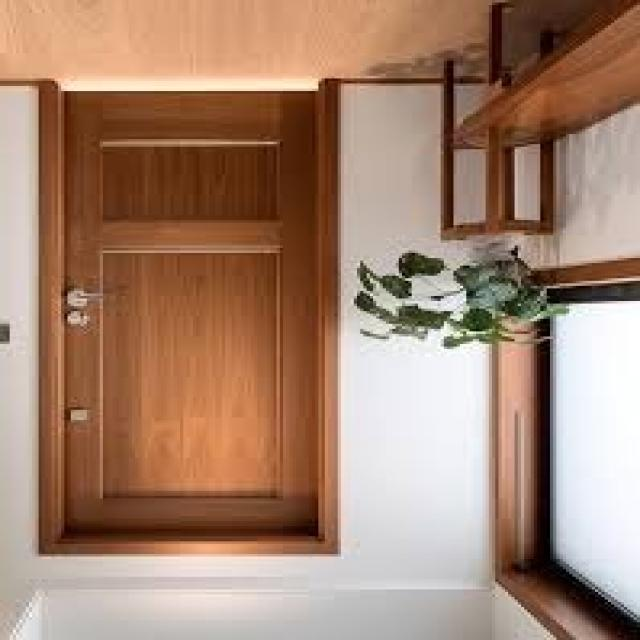door: (58, 90, 325, 545)
